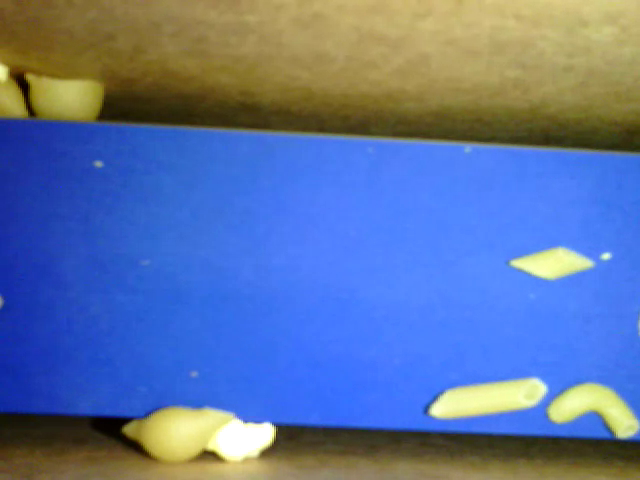elbow: (548, 381, 639, 442)
penne: (430, 374, 552, 421), (505, 243, 597, 282)
shell: (121, 405, 236, 464), (24, 76, 110, 125)
